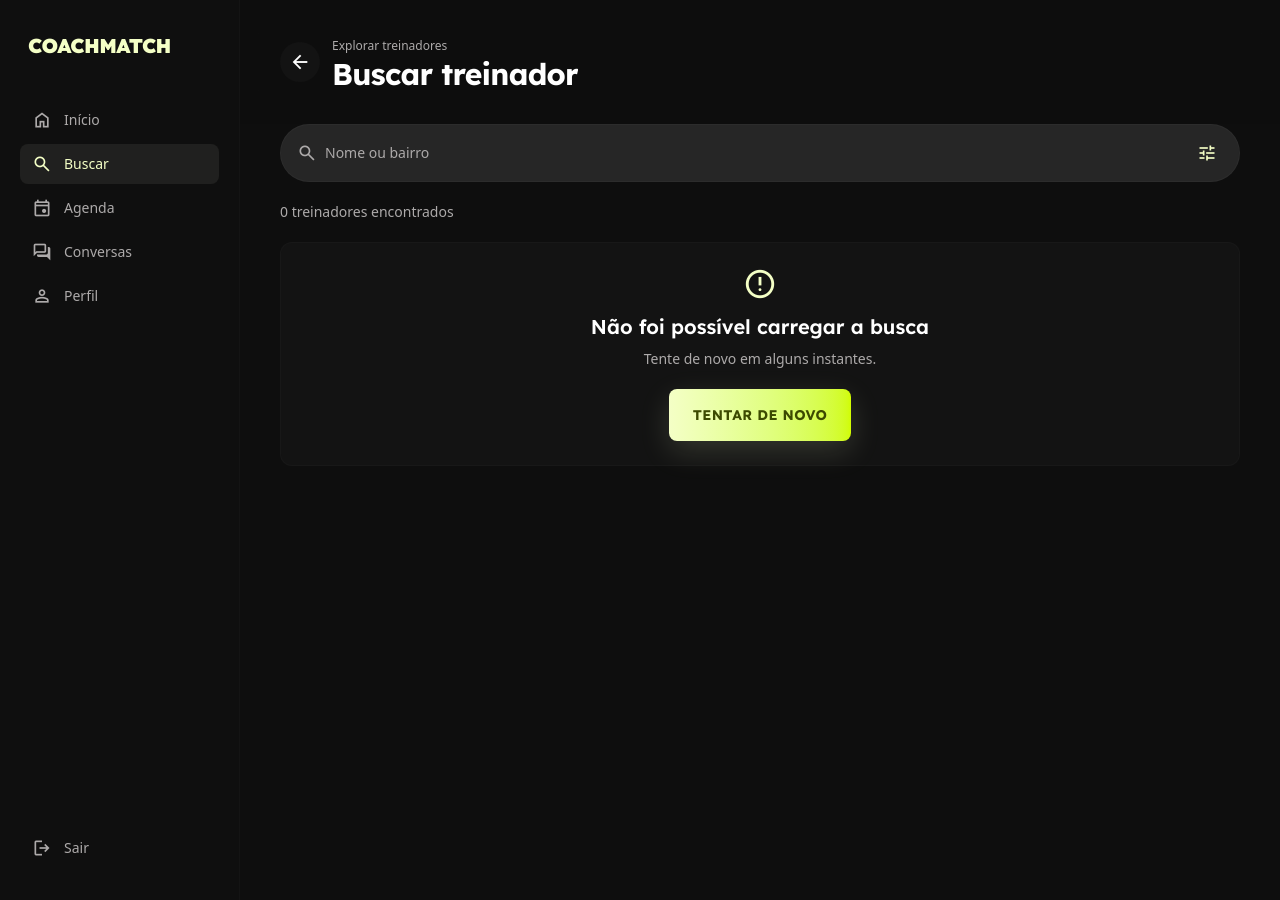
Scenario: ClientSearchPage › mostra erro e permite buscar novamente
Check: the heading "Não foi possível carregar a busca" is shown, box 591,314 -> 929,339
Click the button "TENTAR DE NOVO" at (760, 415), box 669,389 -> 851,441
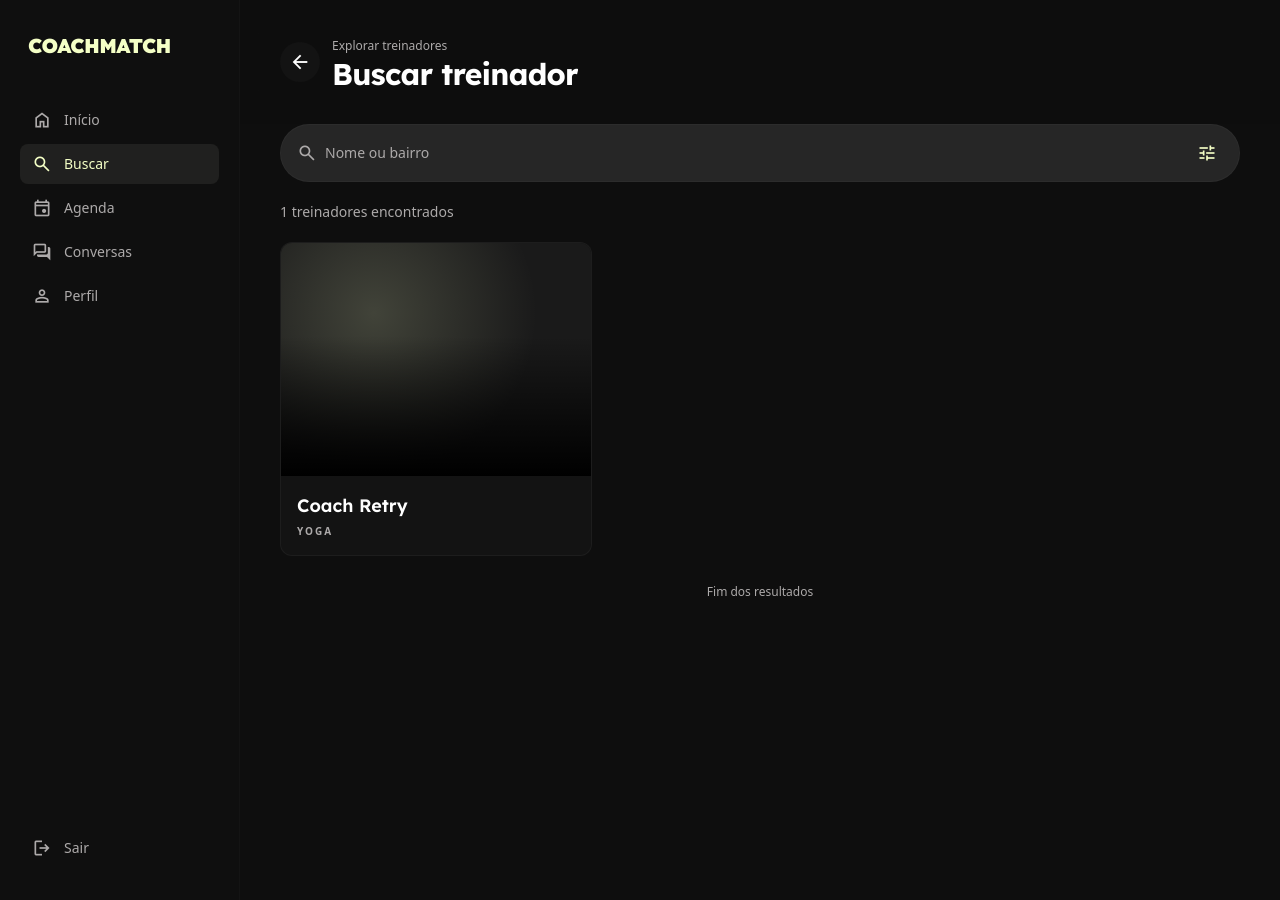
Check: the text "Coach Retry" is shown, box 297,494 -> 408,516
Check: the text "Fim dos resultados" is shown, box 707,582 -> 813,600
